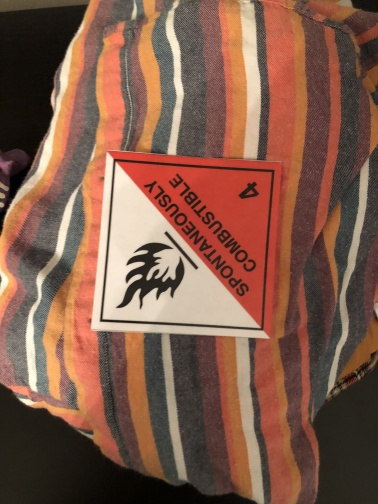SpontaneouslyCombustible: (91, 151, 281, 339)
